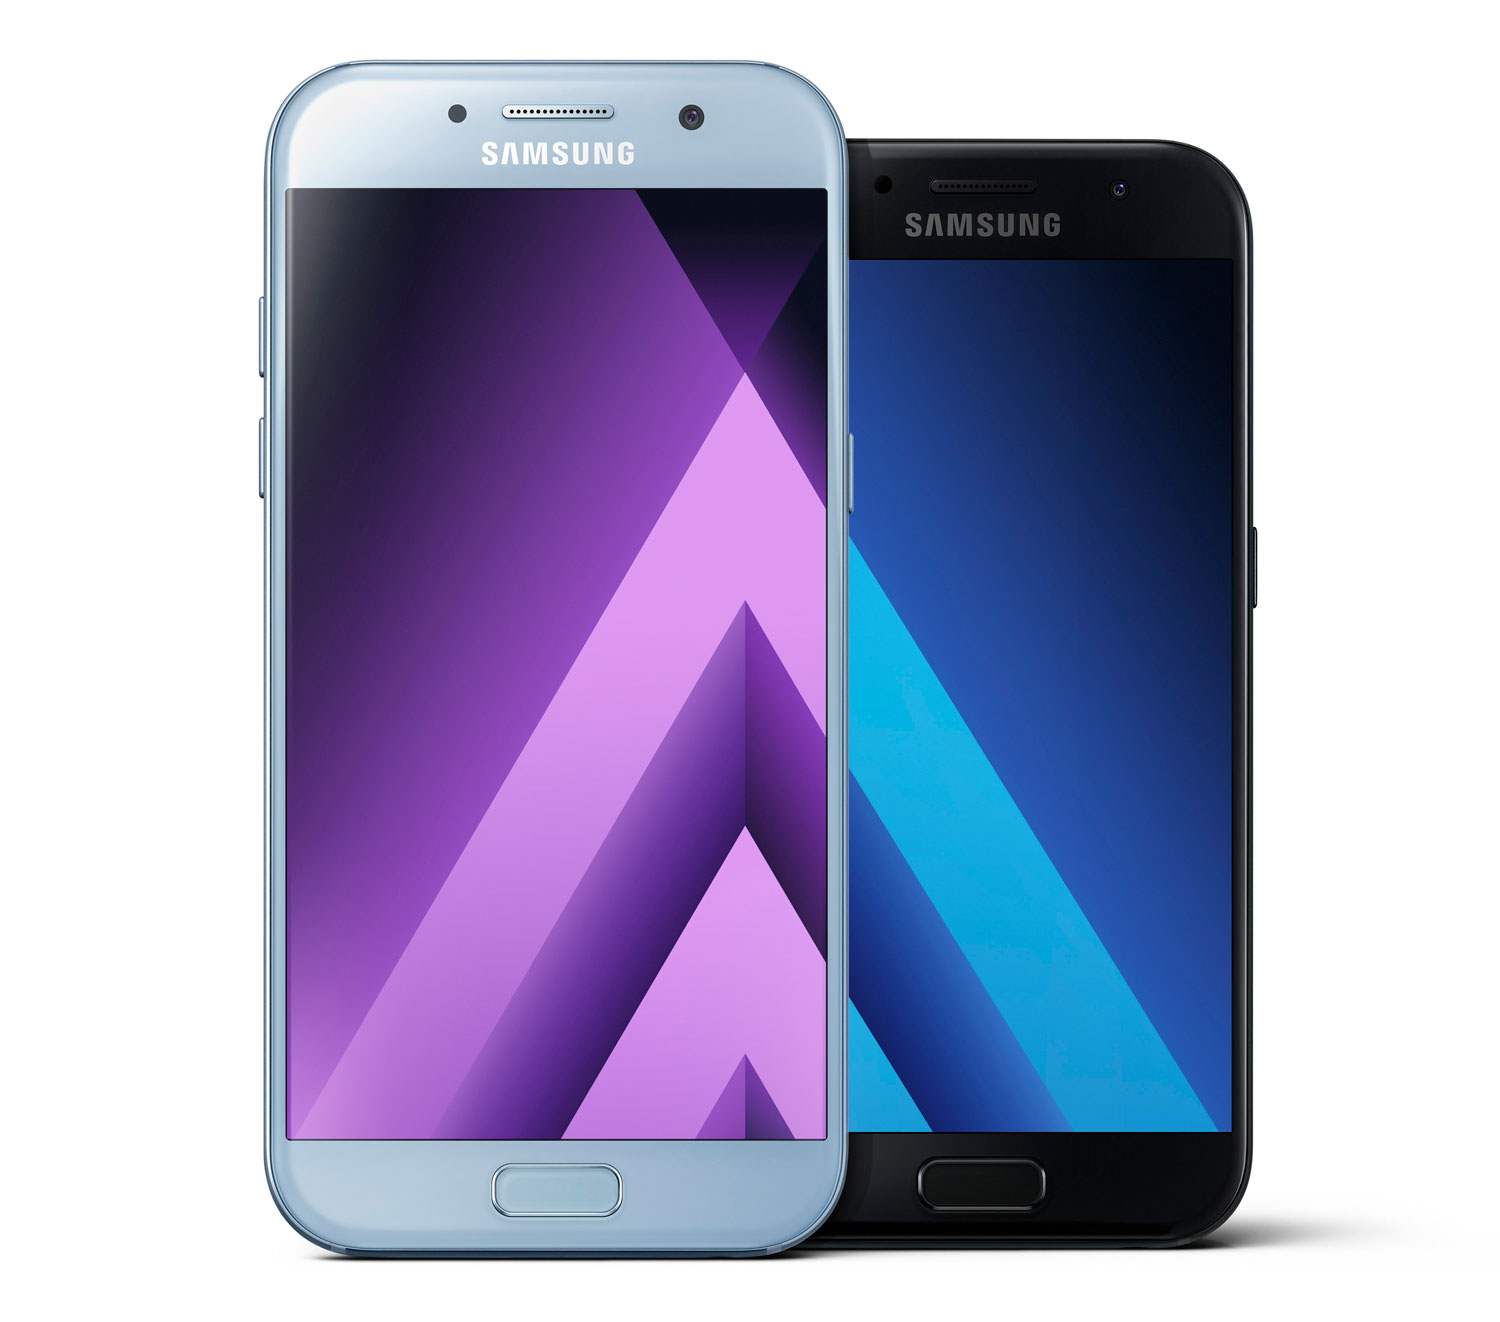smartphone: (256, 59, 853, 1257), (790, 137, 1256, 1248)
